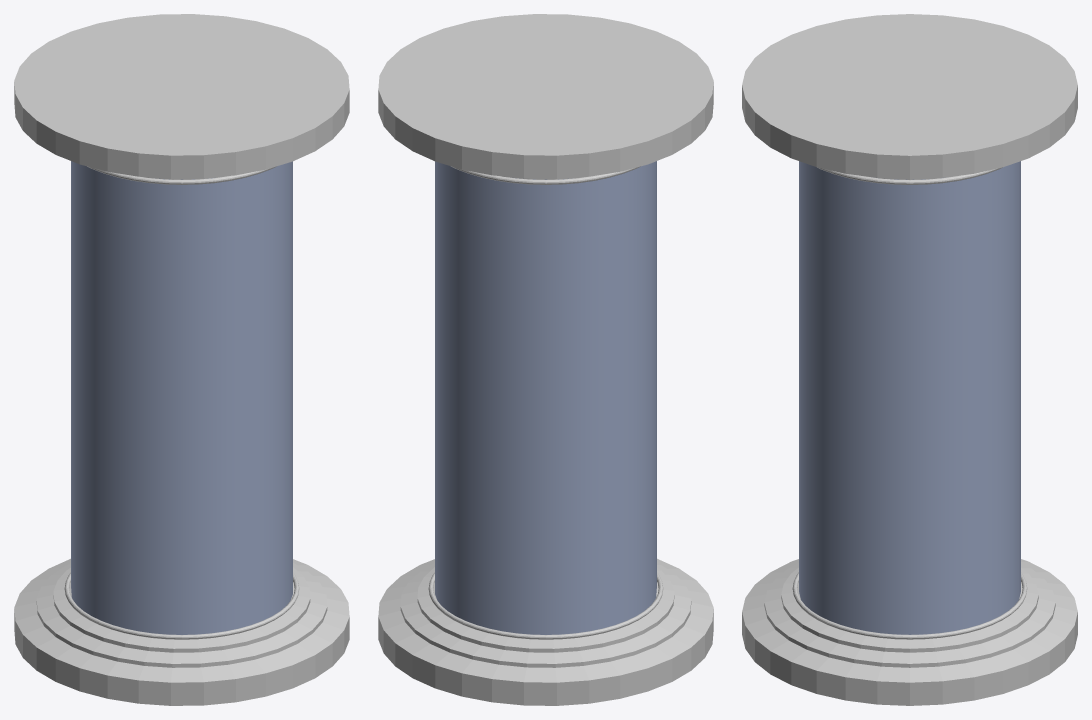
Rendered from Inkubator.fbx.
The picture shows the model from 3 angles, left to right: view 1: azimuth 30°, elevation 25°; view 2: azimuth 150°, elevation 25°; view 3: azimuth 270°, elevation 25°; orthographic projection.
Parts seen in each view (by area): view 1: Cylinder_003, Cylinder_001, Cylinder, Torus_005, Torus_002; view 2: Cylinder_003, Cylinder_001, Cylinder, Torus_005, Torus_002; view 3: Cylinder_003, Cylinder_001, Cylinder, Torus_005, Torus_002.
Part boxes in pixels (<box>): Cylinder_003: <box>71,161,292,634</box>; Cylinder_001: <box>14,14,349,179</box>; Cylinder: <box>14,558,349,705</box>; Torus_005: <box>64,572,299,639</box>; Torus_002: <box>87,166,276,184</box>; Cylinder_003: <box>435,161,656,634</box>; Cylinder_001: <box>378,14,713,179</box>; Cylinder: <box>378,558,713,705</box>; Torus_005: <box>428,572,663,639</box>; Torus_002: <box>451,166,640,184</box>; Cylinder_003: <box>799,161,1020,634</box>; Cylinder_001: <box>742,14,1077,179</box>; Cylinder: <box>742,559,1077,705</box>; Torus_005: <box>792,572,1027,639</box>; Torus_002: <box>817,167,1002,184</box>.
Size of the model in its own units: 3.47 by 6.27 by 3.47.
